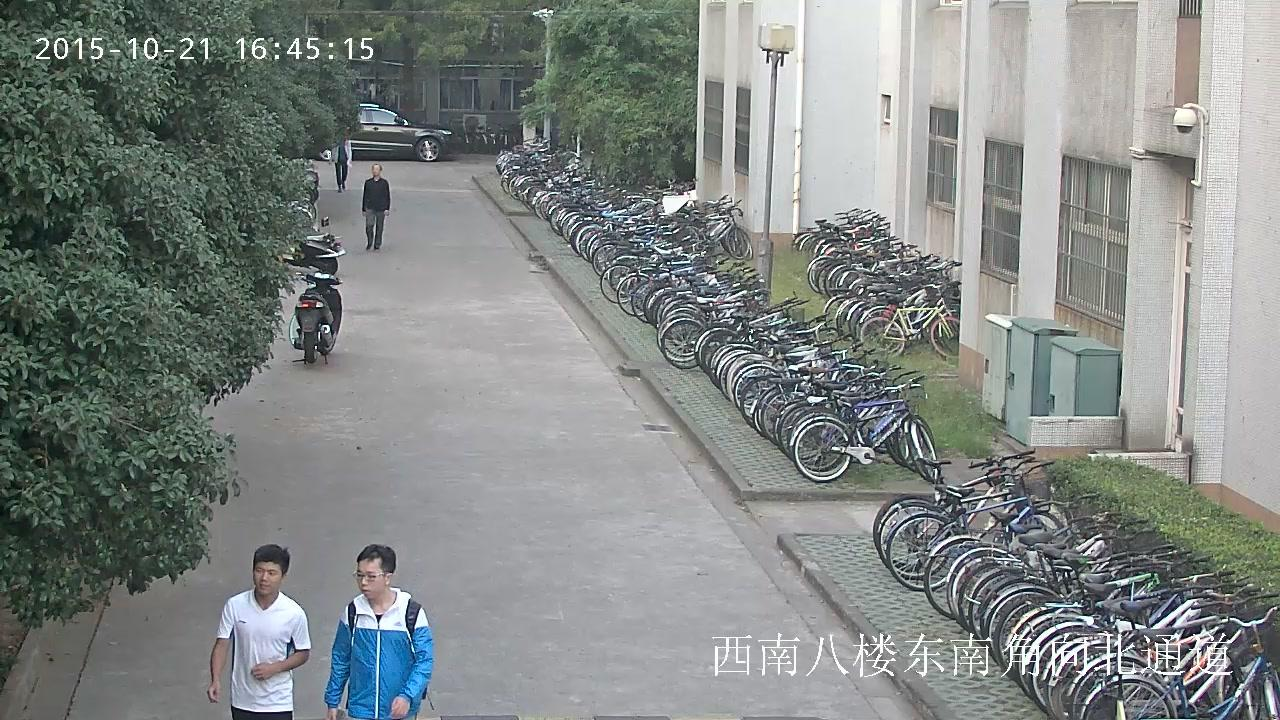face: (357, 557, 385, 597), (254, 561, 282, 594), (372, 164, 380, 175)
